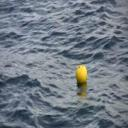yellow: (76, 65, 88, 84)
